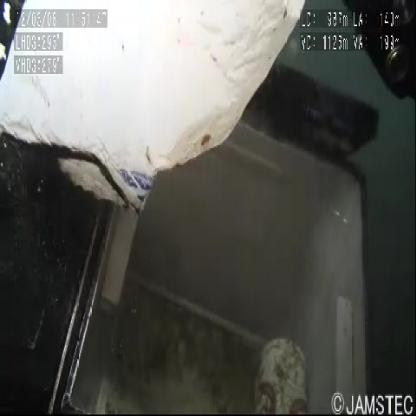Rov: (345, 2, 416, 102)
Rác: (1, 1, 327, 222)
